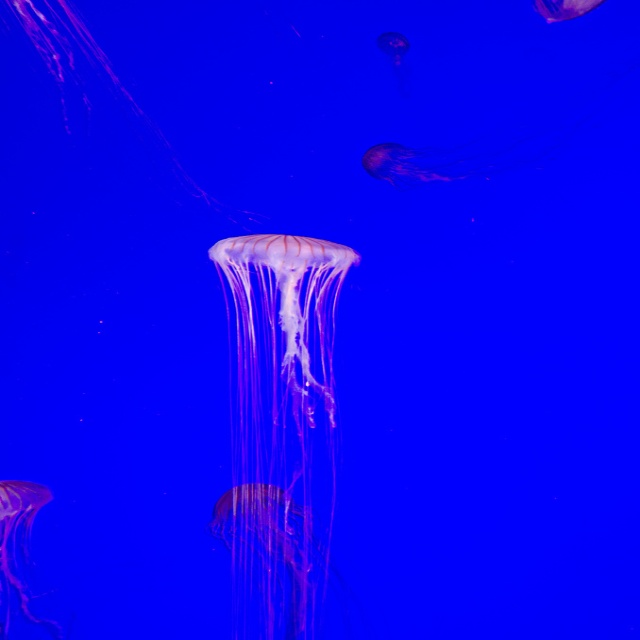Jellyfish: (201, 234, 362, 485), (207, 487, 328, 639), (356, 136, 549, 193), (0, 479, 52, 640), (372, 31, 409, 84), (534, 0, 604, 19)
